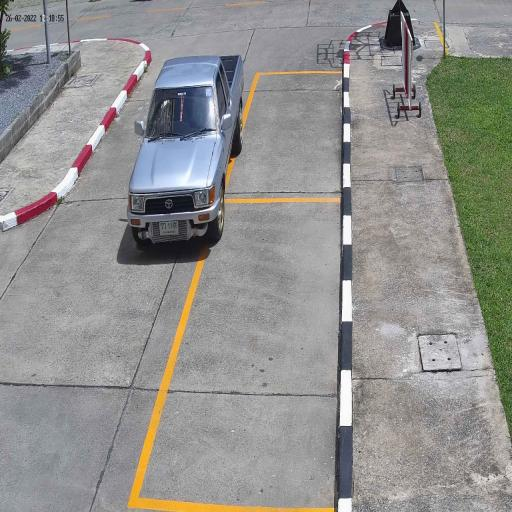car: (126, 53, 246, 249)
